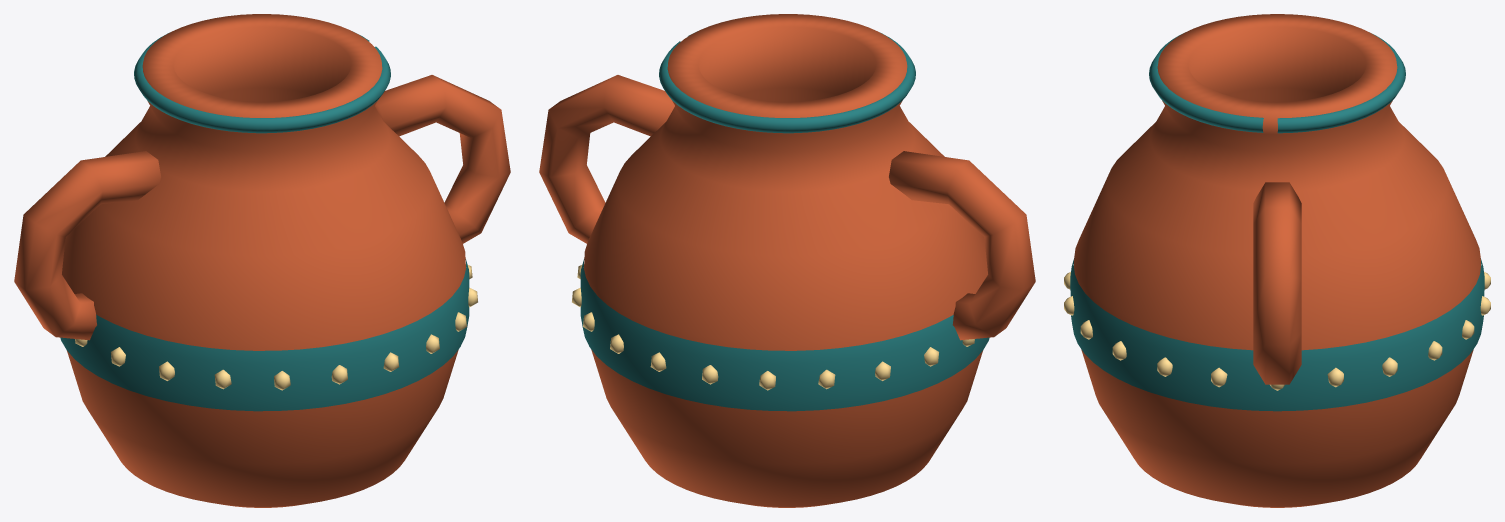
File: striped-clay-jar.glb
The picture shows the model from 3 angles, left to right: view 1: azimuth 30°, elevation 25°; view 2: azimuth 150°, elevation 25°; view 3: azimuth 270°, elevation 25°; orthographic projection.
Parts seen in each view (by area): view 1: terracotta, blue glaze, glaze dots; view 2: terracotta, blue glaze, glaze dots; view 3: terracotta, blue glaze, glaze dots.
Boxes of the visible parts, x1=… form: terracotta: x1=14, y1=14, x2=510, y2=507; blue glaze: x1=60, y1=31, x2=469, y2=411; glaze dots: x1=75, y1=265, x2=477, y2=390; terracotta: x1=539, y1=14, x2=1035, y2=507; blue glaze: x1=580, y1=31, x2=989, y2=411; glaze dots: x1=572, y1=265, x2=974, y2=390; terracotta: x1=1074, y1=14, x2=1480, y2=507; blue glaze: x1=1070, y1=32, x2=1484, y2=411; glaze dots: x1=1064, y1=272, x2=1490, y2=390.
Bounding box in the file's own units: 2.2 × 1.73 × 1.68.
